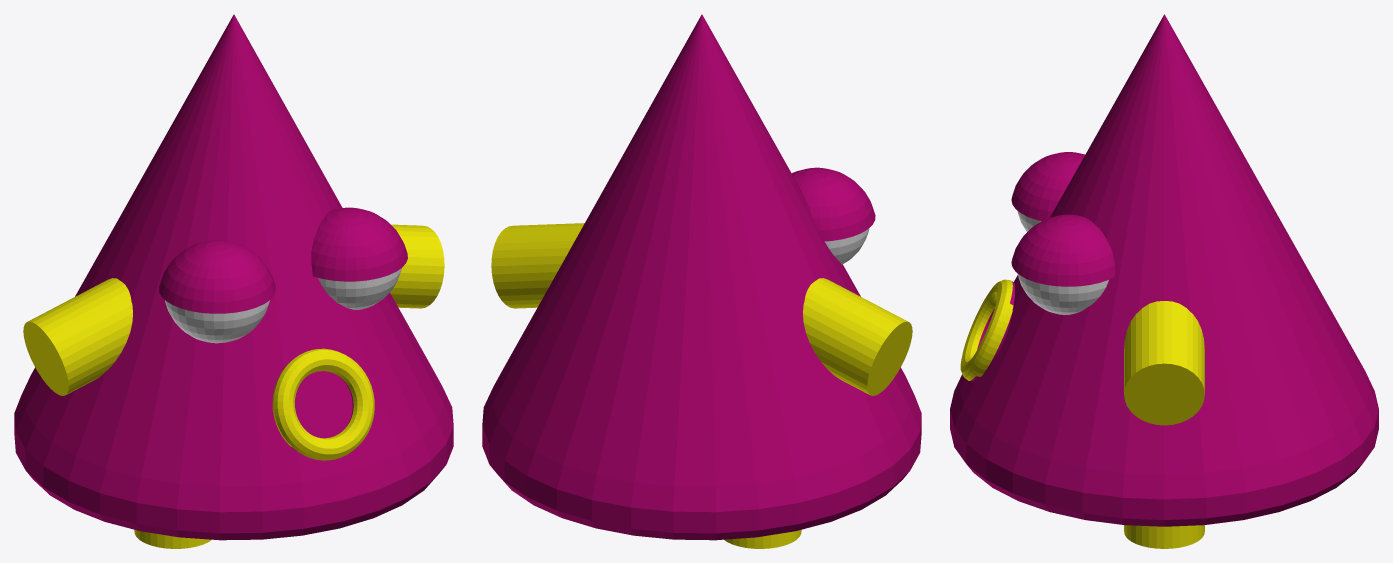
Rendered from bonom_player.glb.
The picture shows the model from 3 angles, left to right: view 1: azimuth 30°, elevation 25°; view 2: azimuth 150°, elevation 25°; view 3: azimuth 270°, elevation 25°; orthographic projection. The views are drawn at different scales.
Parts seen in each view (by area): view 1: Cone, Sphere.002, Cylinder.003, Sphere.001, Cylinder.002, Cylinder; view 2: Cone, Cylinder.003, Cylinder.002, Sphere.002, Cylinder; view 3: Cone, Cylinder.002, Sphere.001, Sphere.002, Cylinder.001.
Boxes of the visible parts, x1,y1,x2,y2 form: Cone: (14, 14, 453, 540); Sphere.002: (159, 239, 275, 343); Cylinder.003: (23, 278, 132, 395); Sphere.001: (311, 207, 407, 309); Cylinder.002: (390, 224, 444, 308); Cylinder: (134, 529, 211, 548); Cone: (482, 14, 921, 540); Cylinder.003: (803, 278, 912, 395); Cylinder.002: (491, 223, 584, 308); Sphere.002: (792, 167, 875, 264); Cylinder: (724, 529, 801, 548); Cone: (950, 14, 1378, 526); Cylinder.002: (1124, 301, 1204, 425); Sphere.001: (1011, 214, 1114, 314); Sphere.002: (1011, 152, 1084, 231); Cylinder.001: (1124, 525, 1204, 548).
Bounding box in the file's own units: 2.03 × 2.48 × 1.96.
